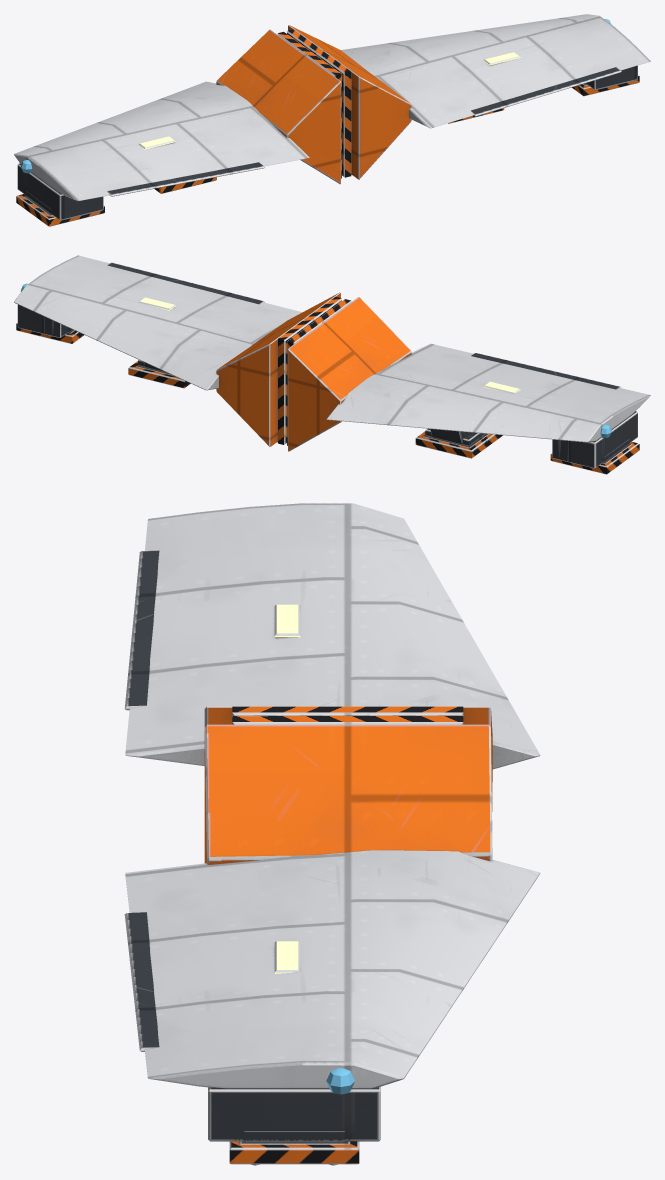
File: ala_corta_t2.fbx
3 views of the same model, one above another, from view 1: azimuth 30°, elevation 25°; view 2: azimuth 150°, elevation 25°; view 3: azimuth 270°, elevation 25° (orthographic). The views are drawn at different scales.
Visible parts, largest first — view 1: ala_corta_t2_izq, ala_corta_t2_der; view 2: ala_corta_t2_izq, ala_corta_t2_der; view 3: ala_corta_t2_der, ala_corta_t2_izq.
Boxes of the visible parts, x1=… form: ala_corta_t2_izq: x1=14, y1=29, x2=341, y2=226; ala_corta_t2_der: x1=287, y1=14, x2=650, y2=179; ala_corta_t2_izq: x1=287, y1=297, x2=650, y2=474; ala_corta_t2_der: x1=14, y1=255, x2=341, y2=446; ala_corta_t2_der: x1=124, y1=716, x2=540, y2=1165; ala_corta_t2_izq: x1=124, y1=503, x2=540, y2=811.
Bounding box in the file's own units: 9.46 × 1.6 × 2.88.
